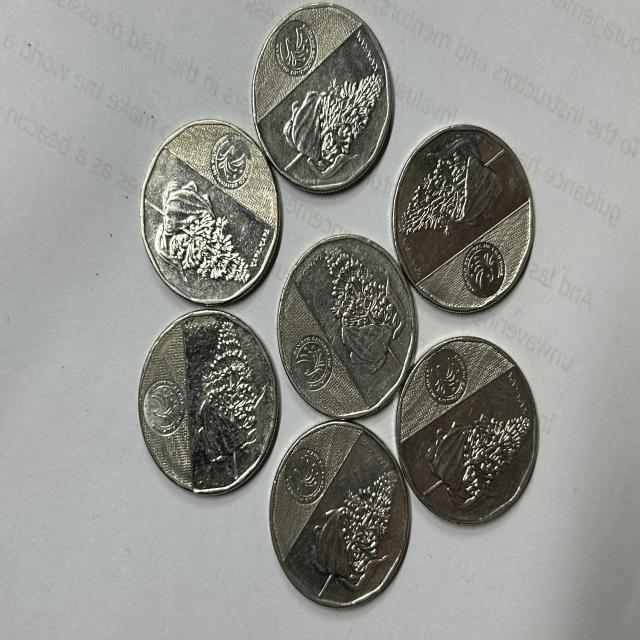10_New_Back: (392, 138, 529, 250), (307, 462, 409, 592), (283, 53, 384, 184), (416, 400, 532, 514), (194, 307, 263, 476), (158, 166, 247, 297), (318, 244, 403, 374)
